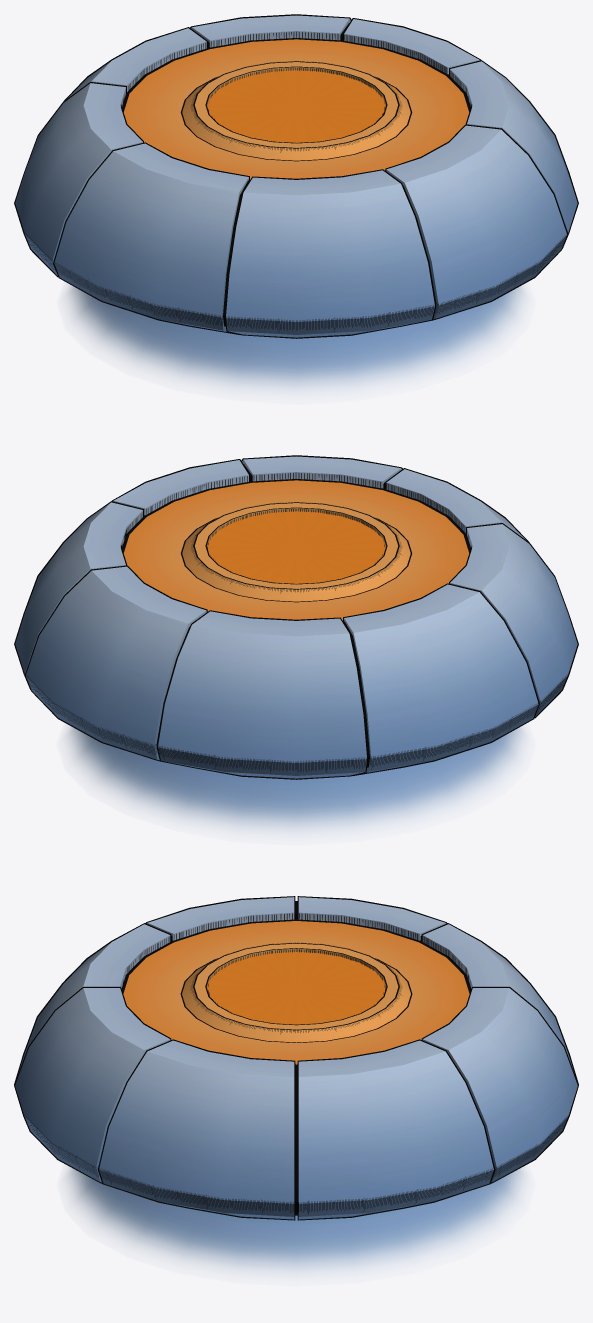
The model's file is platform-03.glb.
3 views of the same model, one above another, from view 1: azimuth 30°, elevation 25°; view 2: azimuth 150°, elevation 25°; view 3: azimuth 270°, elevation 25° (orthographic).
Visible parts, largest first — view 1: Platform_03; view 2: Platform_03; view 3: Platform_03.
Boxes of the visible parts, bbox=[...] form: Platform_03: bbox=[14, 14, 578, 393]; Platform_03: bbox=[14, 455, 578, 834]; Platform_03: bbox=[14, 896, 578, 1276].
Bounding box in the file's own units: 4 × 1.68 × 4.
Materials: 3 (2 with a texture image).
